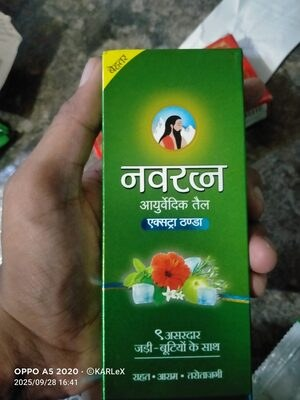Navratna hair oil: (15, 20, 285, 380)
